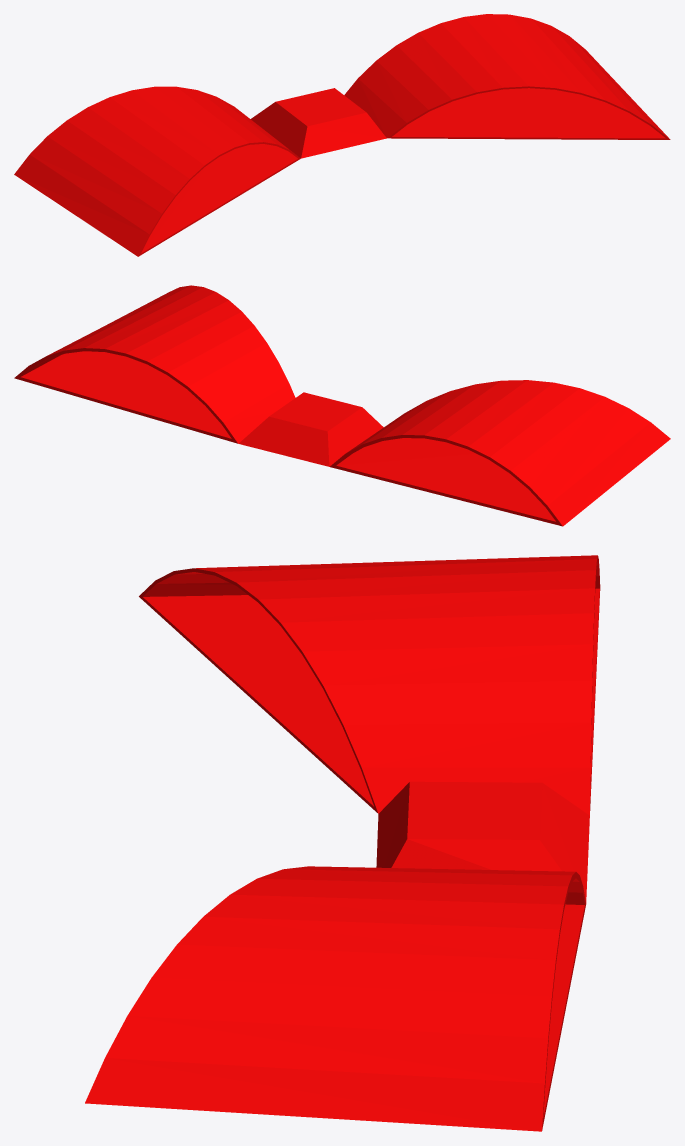
File: Prop_Christmas_Ornament_Bow_Red_01.FBX
3 renders of one model, top to bottom at view 1: azimuth 30°, elevation 25°; view 2: azimuth 150°, elevation 25°; view 3: azimuth 270°, elevation 25°, orthographic. The views are drawn at different scales.
Visible parts, largest first — view 1: Prop_Christmas_Ornament_Bow_Red_01; view 2: Prop_Christmas_Ornament_Bow_Red_01; view 3: Prop_Christmas_Ornament_Bow_Red_01.
Part boxes in pixels (x1,y1,x2,y2): Prop_Christmas_Ornament_Bow_Red_01: [14, 14, 670, 256]; Prop_Christmas_Ornament_Bow_Red_01: [14, 285, 670, 526]; Prop_Christmas_Ornament_Bow_Red_01: [85, 555, 600, 1131].
Size of the model in its own units: 329 by 32.12 by 132.
